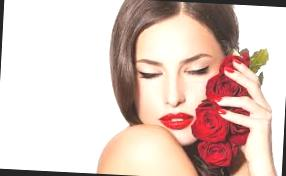closed: (128, 46, 218, 88)
